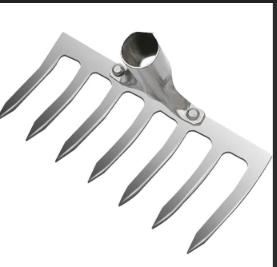RATEAU: (0, 4, 277, 267)
